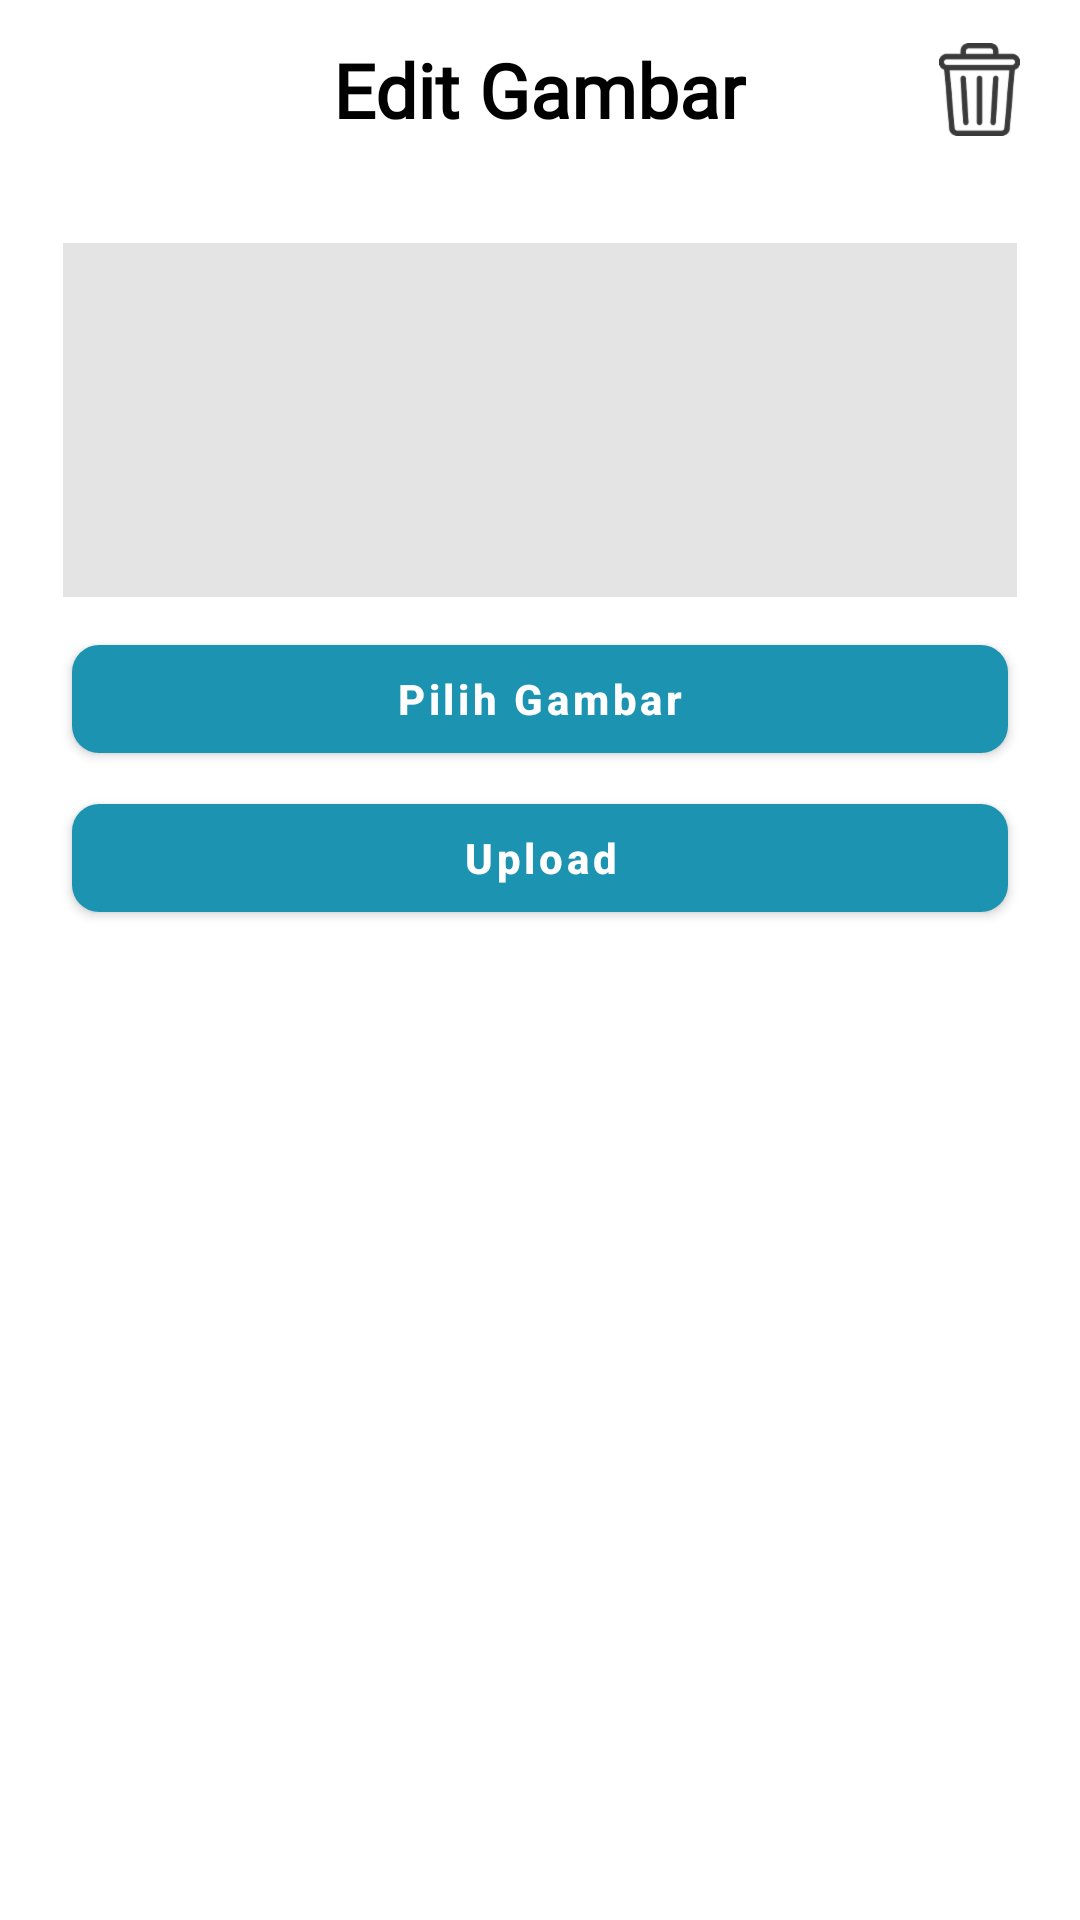

Locate icon controls on the screen. Image size 1080 x 1920, boxes as (x1, y1, x2, y2).
hapus: (939, 43, 1020, 136)
